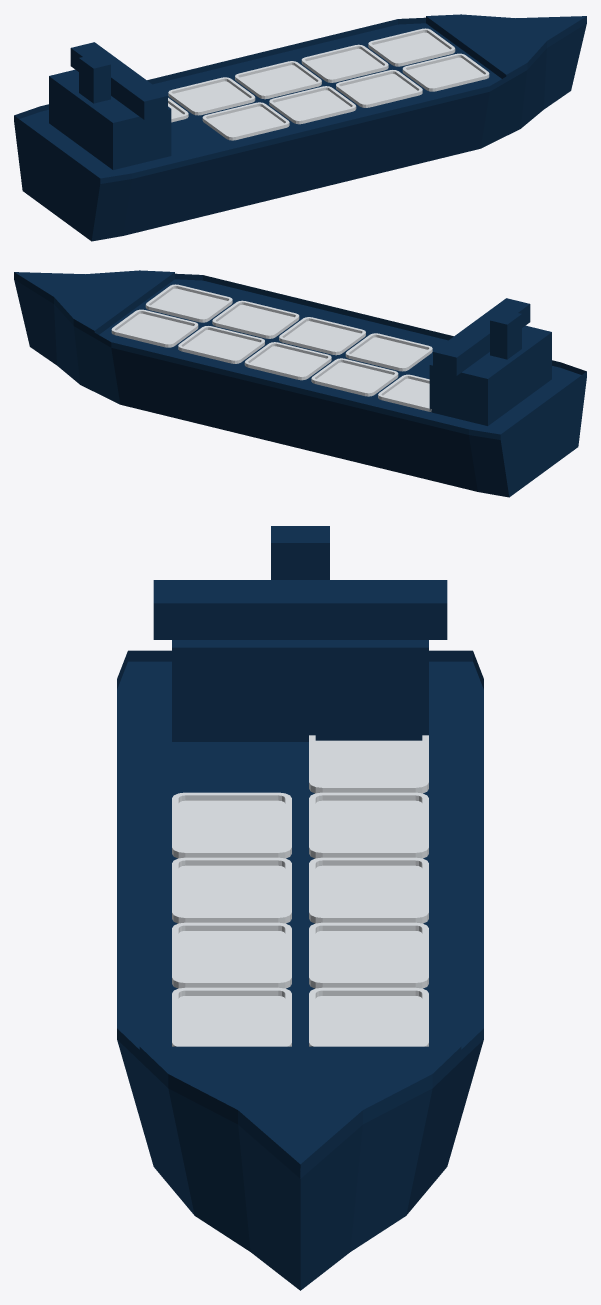
File: vessel-tank-09.glb
3 renders of one model, top to bottom at view 1: azimuth 30°, elevation 25°; view 2: azimuth 150°, elevation 25°; view 3: azimuth 270°, elevation 25°, orthographic. The views are drawn at different scales.
Parts seen in each view (by area): view 1: hull, superstructure, detail_forecastle, detail_bulwark, tank_01p, tank_04p, tank_04s, tank_01s, tank_02p, tank_03s, tank_02s, tank_03p (+1 smaller); view 2: hull, superstructure, detail_forecastle, detail_bulwark, tank_01s, tank_04s, tank_04p, tank_01p, tank_02s, tank_03p, tank_02p, tank_03s (+2 smaller); view 3: hull, superstructure, detail_forecastle, tank_04p, tank_04s, tank_02p, tank_02s, tank_03p, tank_03s, tank_01p, tank_01s, tank_05p (+2 smaller).
Part boxes in pixels (x1=…): hull: x1=14, y1=23, x2=586, y2=241; superstructure: x1=49, y1=42, x2=171, y2=169; detail_forecastle: x1=426, y1=14, x2=586, y2=81; detail_bulwark: x1=14, y1=17, x2=586, y2=183; tank_01p: x1=368, y1=28, x2=455, y2=66; tank_04p: x1=168, y1=77, x2=255, y2=115; tank_04s: x1=202, y1=102, x2=289, y2=140; tank_01s: x1=402, y1=53, x2=489, y2=91; tank_02p: x1=301, y1=44, x2=388, y2=82; tank_03s: x1=269, y1=86, x2=356, y2=124; tank_02s: x1=336, y1=70, x2=422, y2=107; tank_03p: x1=235, y1=61, x2=321, y2=99; hull: x1=14, y1=279, x2=586, y2=497; superstructure: x1=429, y1=298, x2=551, y2=425; detail_forecastle: x1=14, y1=270, x2=174, y2=337; detail_bulwark: x1=14, y1=273, x2=586, y2=439; tank_01s: x1=145, y1=284, x2=232, y2=322; tank_04s: x1=345, y1=333, x2=432, y2=371; tank_04p: x1=311, y1=358, x2=398, y2=396; tank_01p: x1=111, y1=309, x2=198, y2=347; tank_02s: x1=212, y1=300, x2=299, y2=338; tank_03p: x1=244, y1=342, x2=331, y2=380; tank_02p: x1=178, y1=326, x2=264, y2=363; tank_03s: x1=279, y1=317, x2=365, y2=355; hull: x1=117, y1=661, x2=483, y2=1290; superstructure: x1=153, y1=580, x2=447, y2=741; detail_forecastle: x1=139, y1=1046, x2=461, y2=1176; tank_04p: x1=309, y1=792, x2=428, y2=858; tank_04s: x1=172, y1=792, x2=291, y2=858; tank_02p: x1=309, y1=922, x2=428, y2=988; tank_02s: x1=172, y1=922, x2=291, y2=988; tank_03p: x1=309, y1=857, x2=428, y2=923; tank_03s: x1=172, y1=857, x2=291, y2=923; tank_01p: x1=309, y1=987, x2=428, y2=1046; tank_01s: x1=172, y1=987, x2=291, y2=1046; tank_05p: x1=309, y1=735, x2=428, y2=793.
Size of the model in its own units: 10 by 2.63 by 3.
